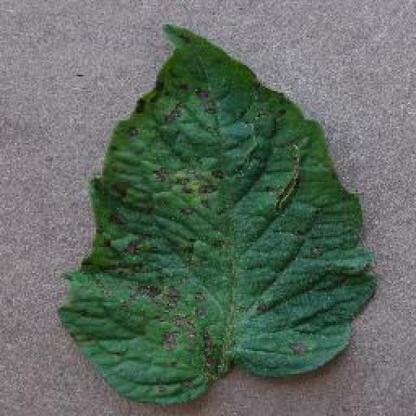Tomato_Blight: (60, 24, 375, 402)
